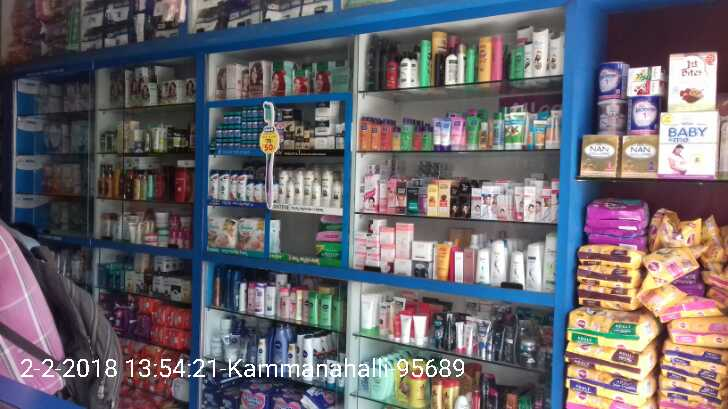beauty: (322, 167, 333, 210), (292, 167, 302, 207), (301, 168, 311, 206), (310, 178, 322, 209), (315, 100, 331, 120), (210, 170, 220, 201), (278, 168, 287, 201), (219, 169, 228, 200), (315, 119, 330, 136), (244, 178, 254, 203), (313, 135, 331, 148), (253, 178, 263, 201)
pharmacy: (313, 240, 341, 264), (319, 215, 341, 240)
